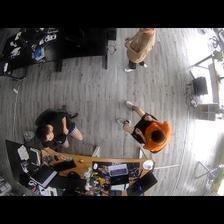normal: (113, 97, 173, 155), (33, 104, 83, 149), (123, 29, 156, 75)
